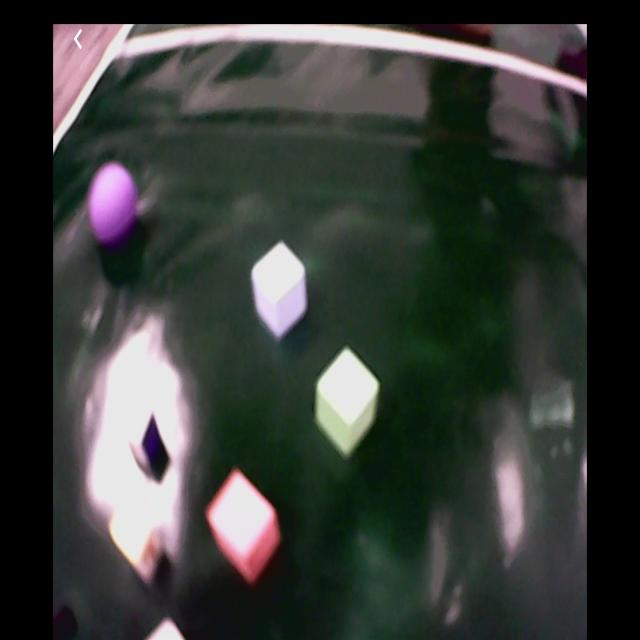ball: (91, 163, 136, 244)
